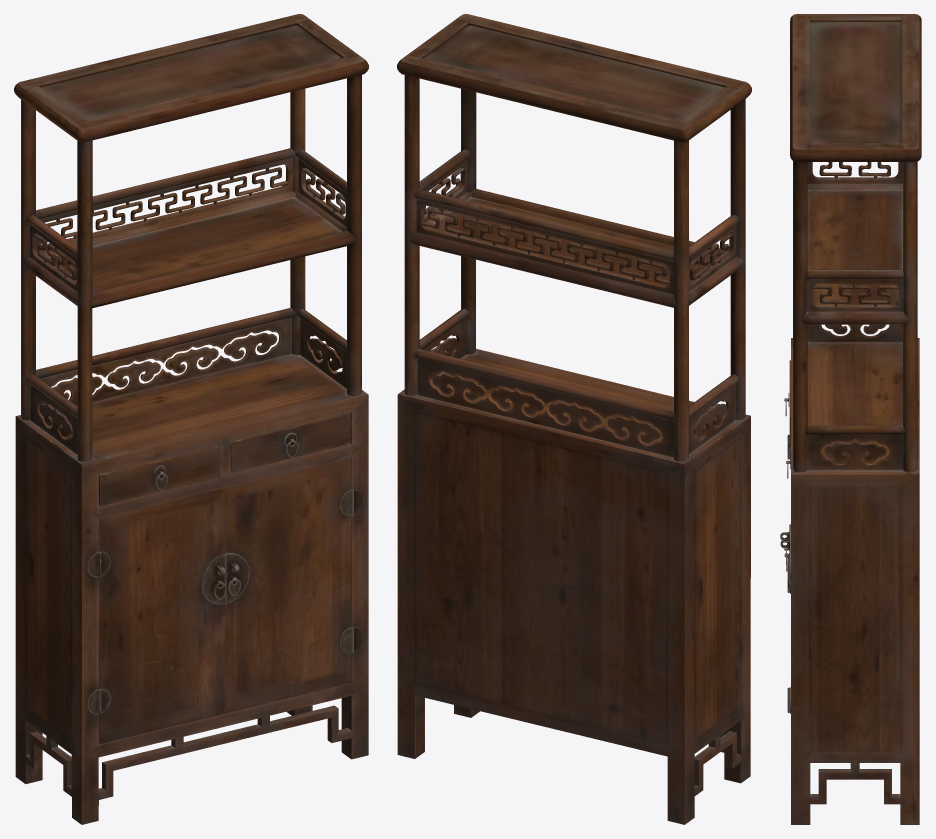
The model's file is chinese_cabinet.glb.
3 views of the same model, side by side, from view 1: azimuth 30°, elevation 25°; view 2: azimuth 150°, elevation 25°; view 3: azimuth 270°, elevation 25° (orthographic). The views are drawn at different scales.
Visible parts, largest first — view 1: chinese_cabinet; view 2: chinese_cabinet; view 3: chinese_cabinet.
Part boxes in pixels (x1,y1,x2,y2): chinese_cabinet: (14,14,368,824); chinese_cabinet: (397,14,751,824); chinese_cabinet: (780,14,921,824).
Bounding box in the file's own units: 1.26 × 2.87 × 0.5452.
Materials: 1 (1 with a texture image).
